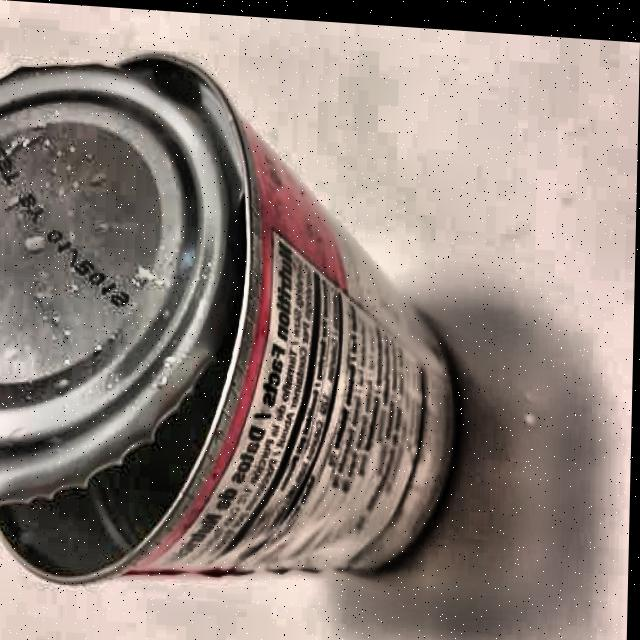metal: (0, 42, 472, 622)
